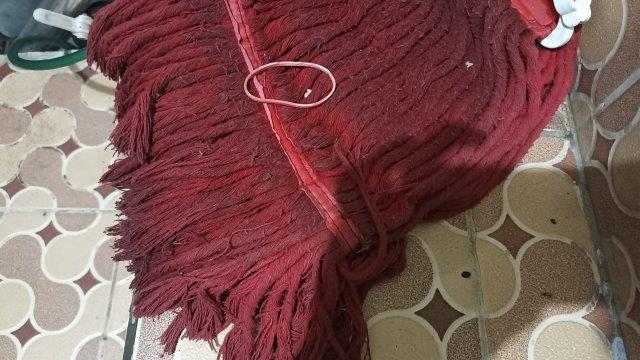karet: (243, 61, 337, 107)
